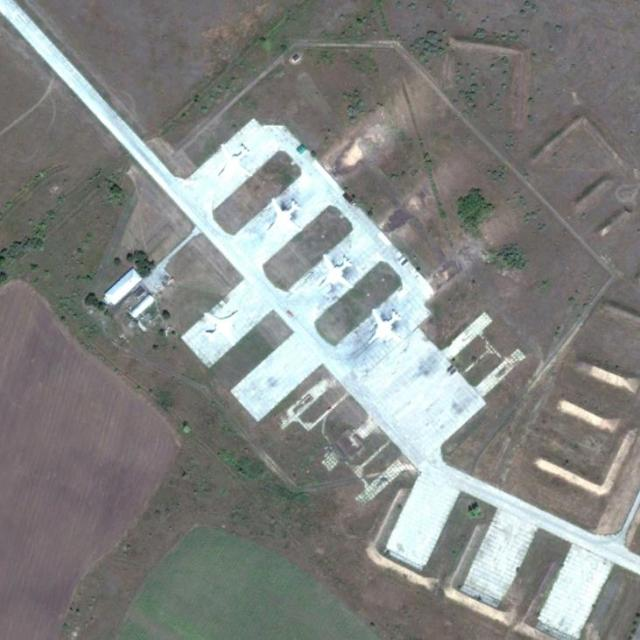fighter jet: (196, 301, 255, 356), (208, 139, 261, 189), (262, 197, 312, 250), (392, 380, 447, 428), (308, 257, 362, 301), (361, 311, 407, 351)
